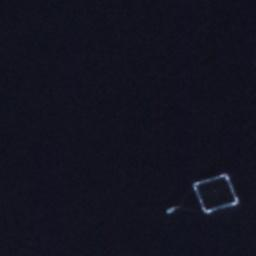square_solid: (189, 169, 243, 217)
